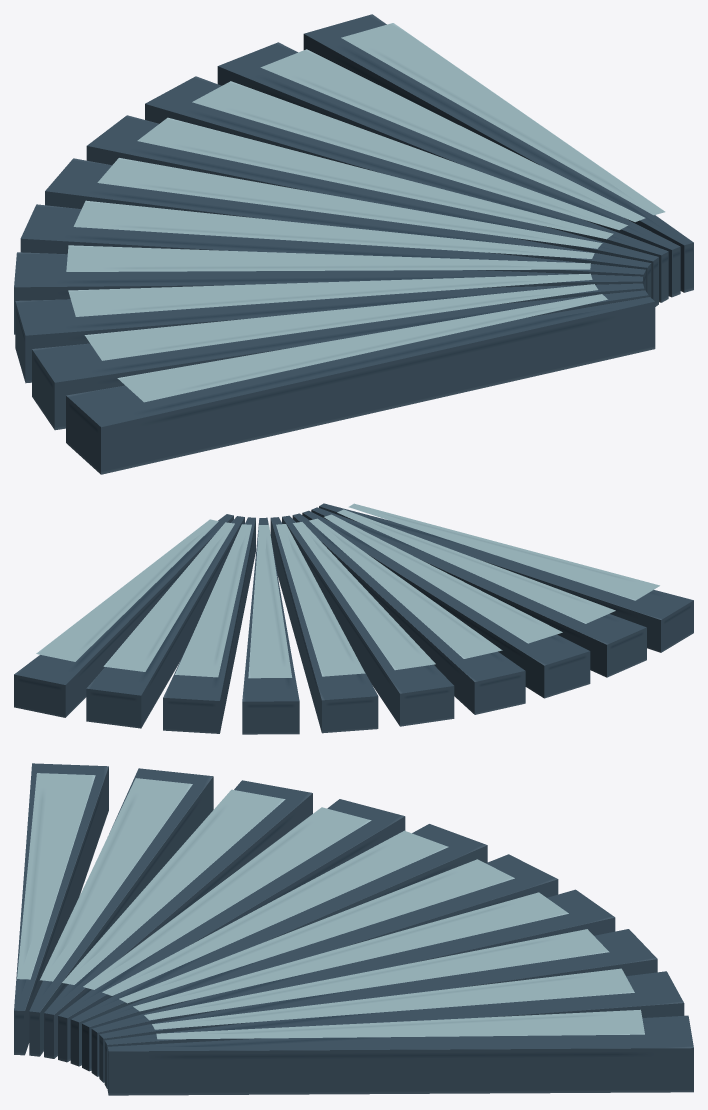
The model's file is sc_tread_curve_right_2.obj.
3 views of the same model, one above another, from view 1: azimuth 30°, elevation 25°; view 2: azimuth 150°, elevation 25°; view 3: azimuth 270°, elevation 25° (orthographic). The views are drawn at different scales.
Size of the model in its own units: 17.46 by 1.56 by 17.42.
1 material, 1 textured.
